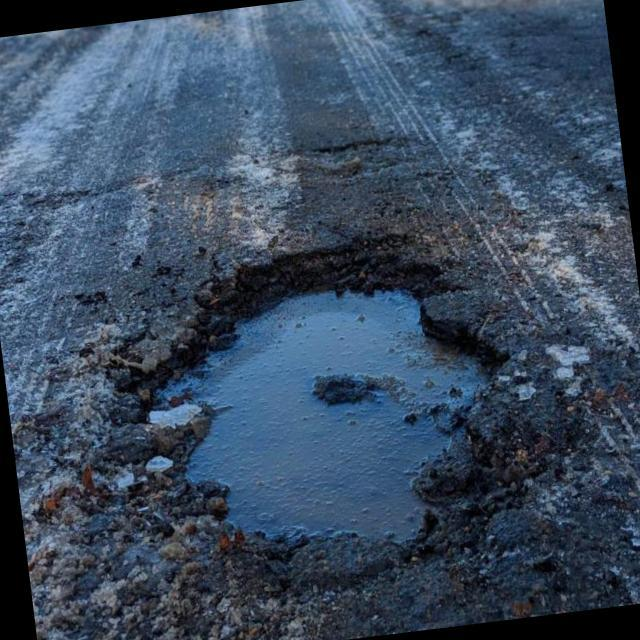Pothole: (118, 230, 515, 541)
